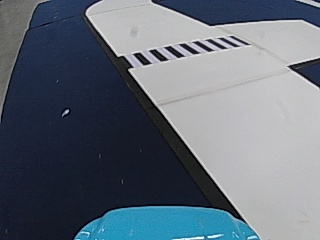CrossWalk: (124, 35, 247, 65)
